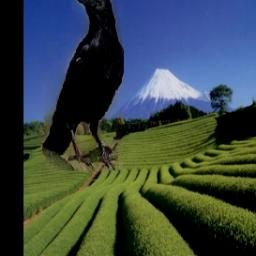Crow: (43, 0, 125, 171)
